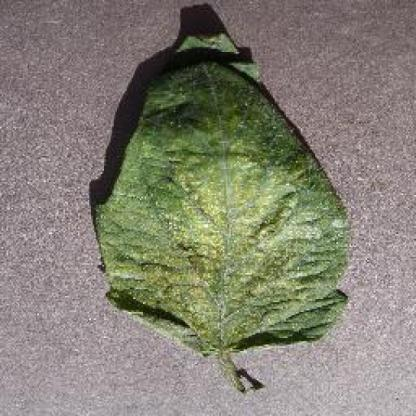Tomato_Spider_Mites: (96, 34, 348, 347)
